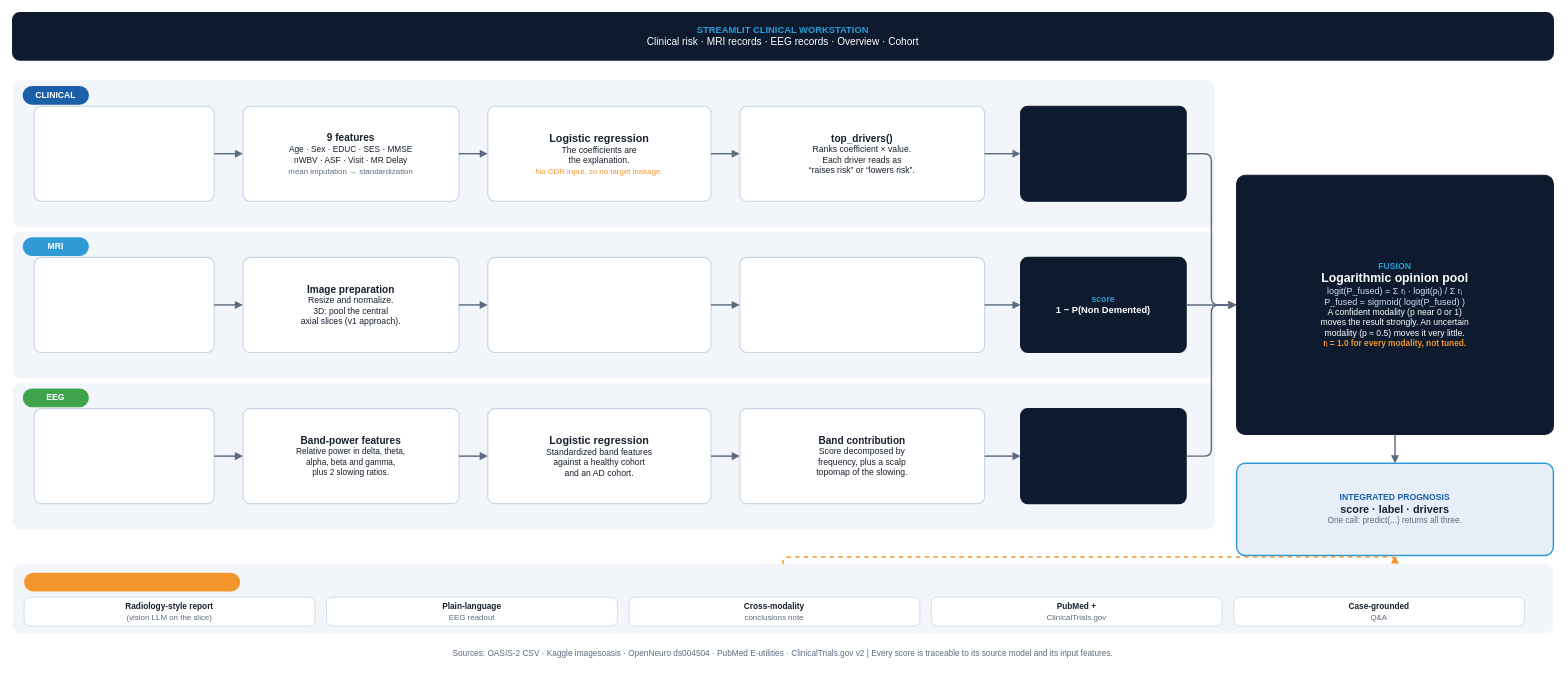
The diagram is 1567 pixels wide and 676 high, and some of its shapes have lost their labels. Each missing label, with the centre of its shape:
Clinical record OASIS-2 CSV or EHR export: (123,153)
EEG Resting-state recording (ds004504): (123,456)
Grad-CAM Pixel attribution for the winning class, drawn on the scan itself.: (862,305)
LLM NARRATIVE LAYER — IT DRAFTS, IT DOES NOT DECIDE: (132,581)
MRI 2D axial slice 3D volume (NIfTI): (123,305)
ResNet18 Frozen ImageNet backbone, retrained head. Softmax over severity.: (599,305)
score P(AD pattern): (1103,456)
score P(at risk): (1103,153)
